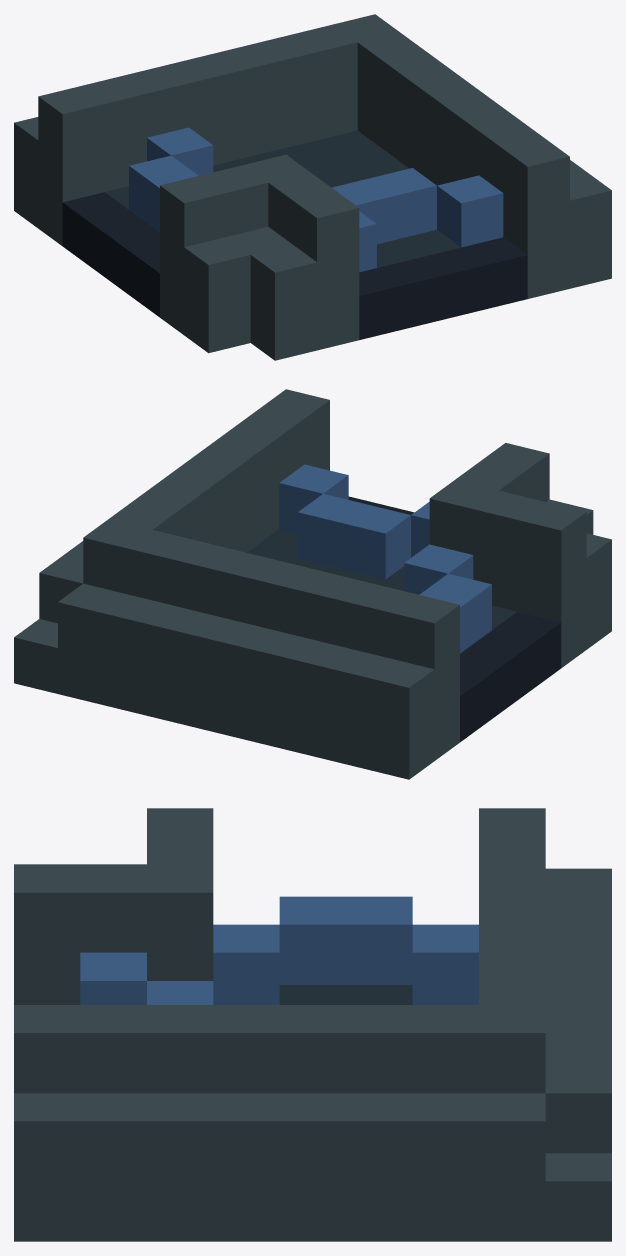
Rendered from ConveyorLeft.obj.
The picture shows the model from 3 angles, top to bottom: view 1: azimuth 30°, elevation 25°; view 2: azimuth 150°, elevation 25°; view 3: azimuth 270°, elevation 25°; orthographic projection. The views are drawn at different scales.
Size of the model in its own units: 0.9 by 0.3 by 0.9.
1 material, 1 textured.
